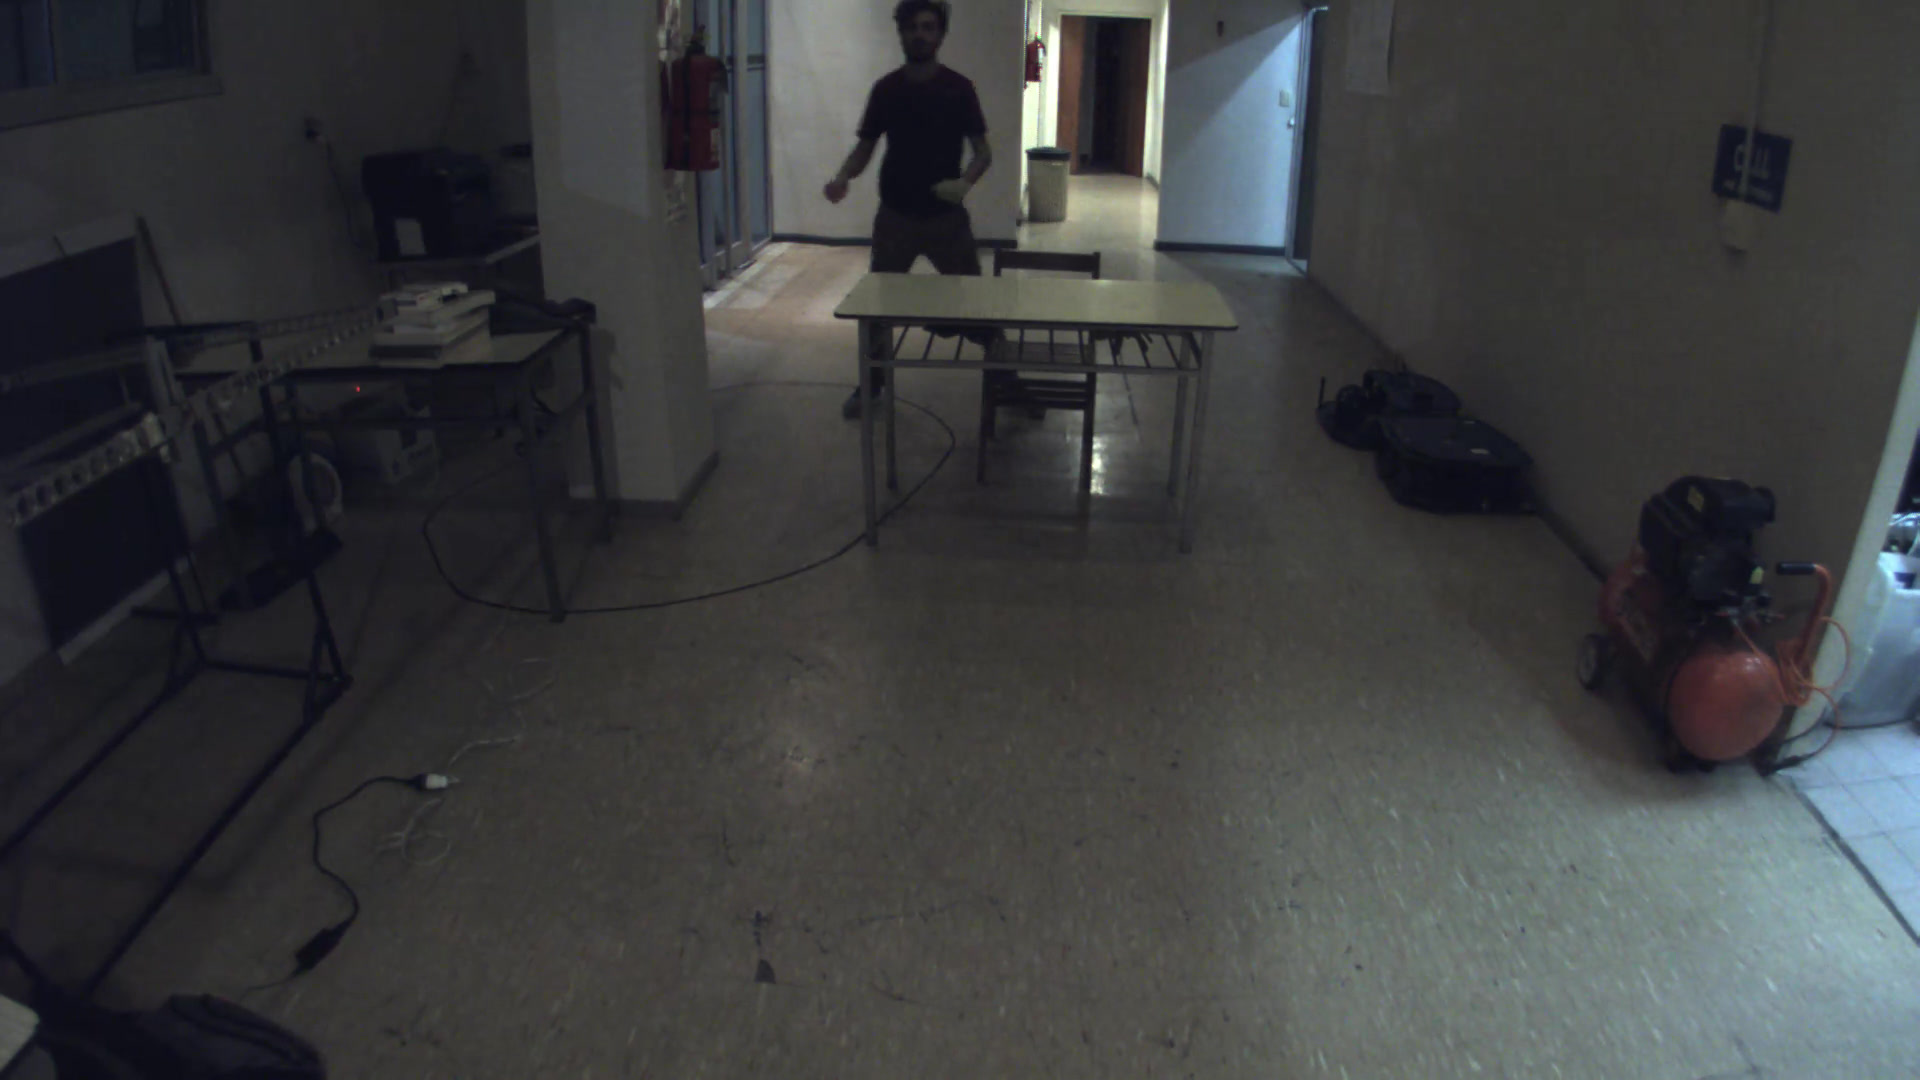hand: (804, 162, 858, 203), (928, 165, 973, 208)
